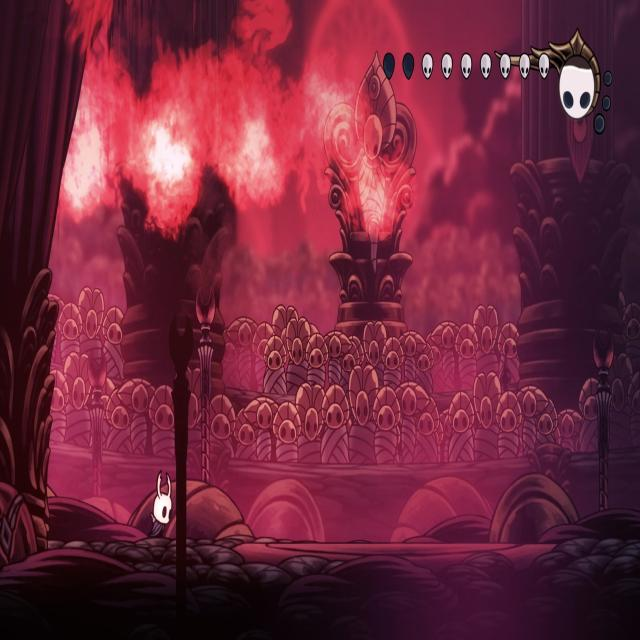Fireball: (311, 77, 404, 236), (135, 95, 200, 205), (61, 101, 111, 216), (228, 111, 284, 206)
Player: (144, 466, 173, 542)
